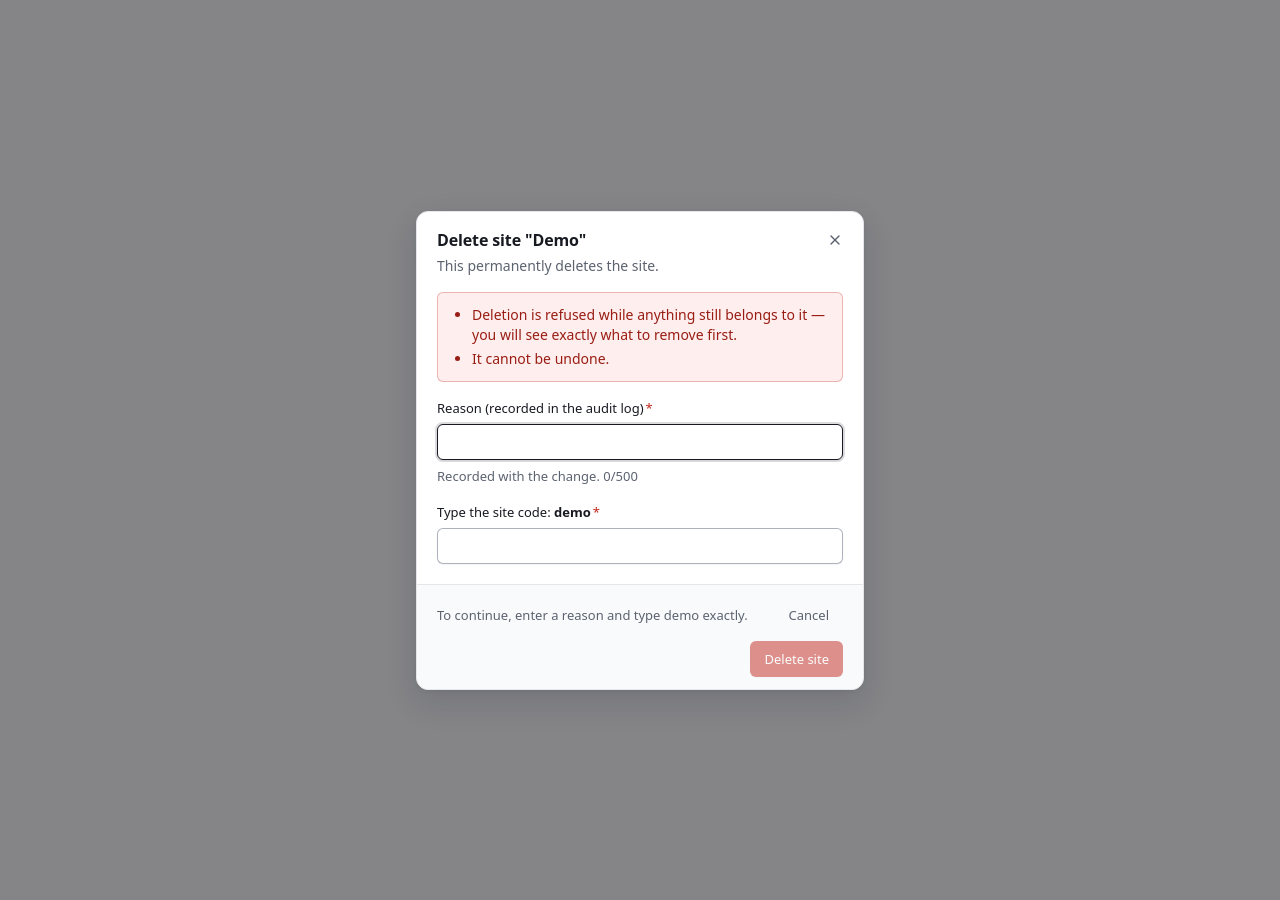
DeleteDialog — the destructive-action pattern › sends the typed confirmation and reason, and lists blockers from a 409
Check: the list item "It cannot be undone." is shown, box [472,348,609,368]
Type "demo" into the field labelled "Type the site code: demo*" at (640, 546), box [437,528,843,564]
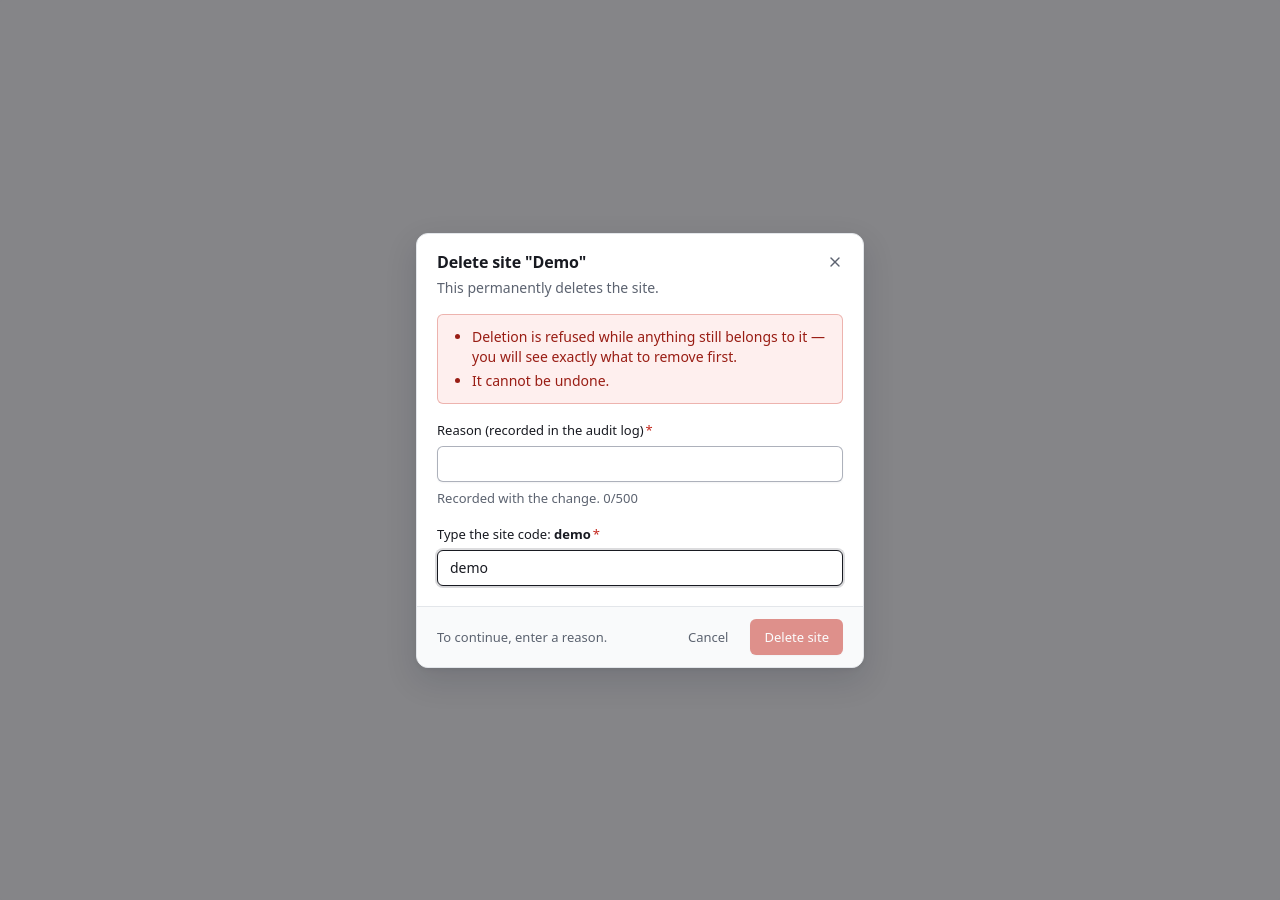
Type "duplicate" into the field labelled "Reason (recorded in the audit log)*" at (640, 464), box [437,446,843,482]
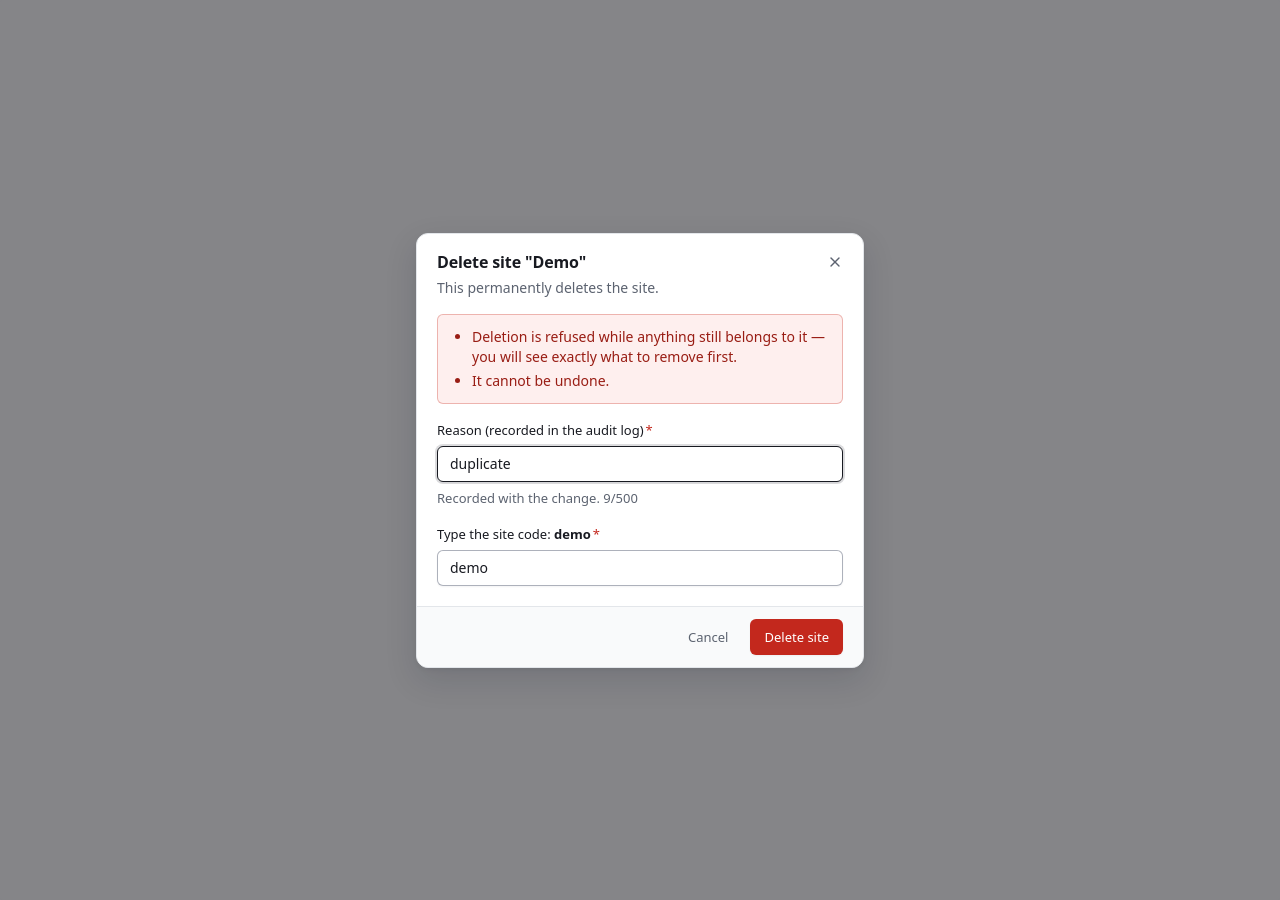
Click the button "Delete site" at (797, 636), box [750,618,843,654]
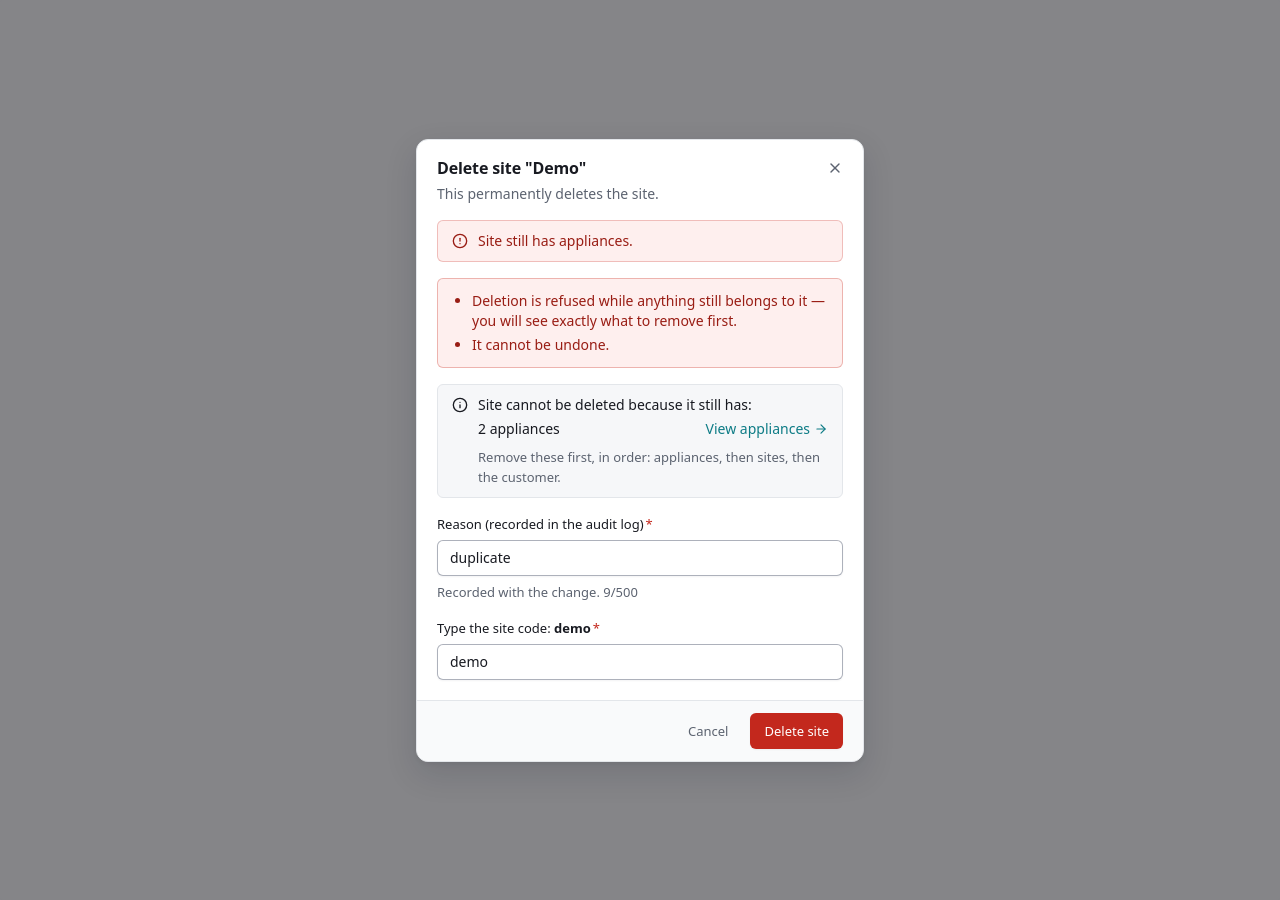
Check: the text "Site cannot be deleted because it still has:" is shown, box [478,394,752,414]
Check: the text "2 appliances" is shown, box [478,418,560,438]
